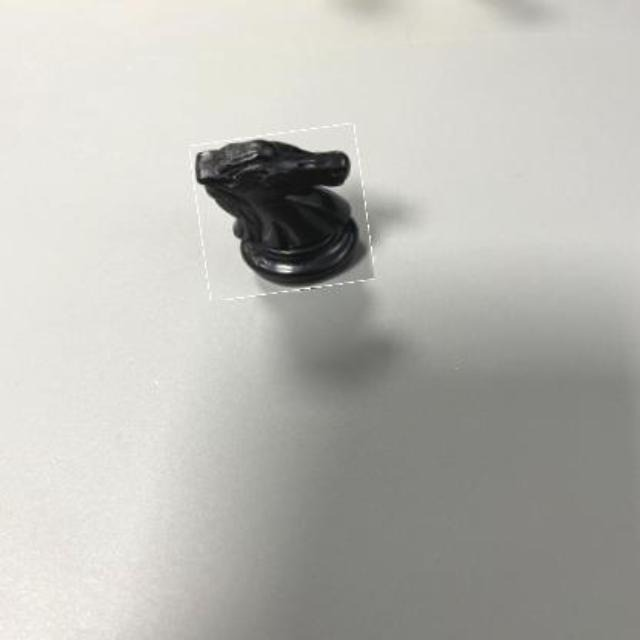black-knight: (195, 129, 371, 296)
